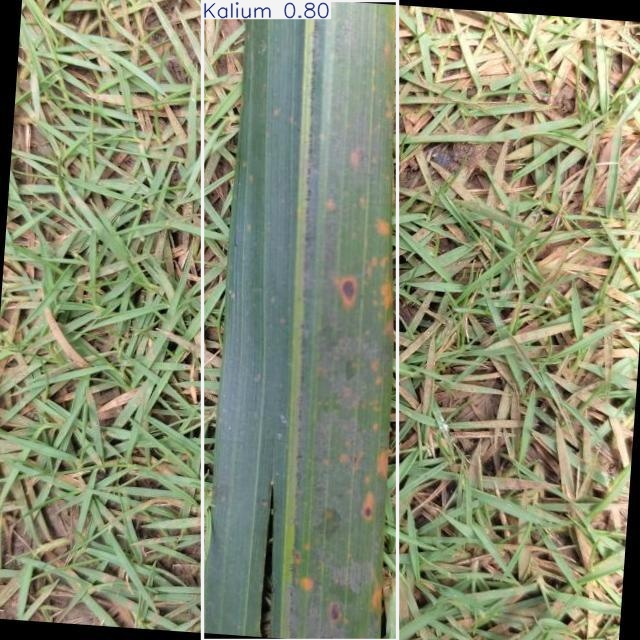Kalium: (203, 0, 398, 640)
